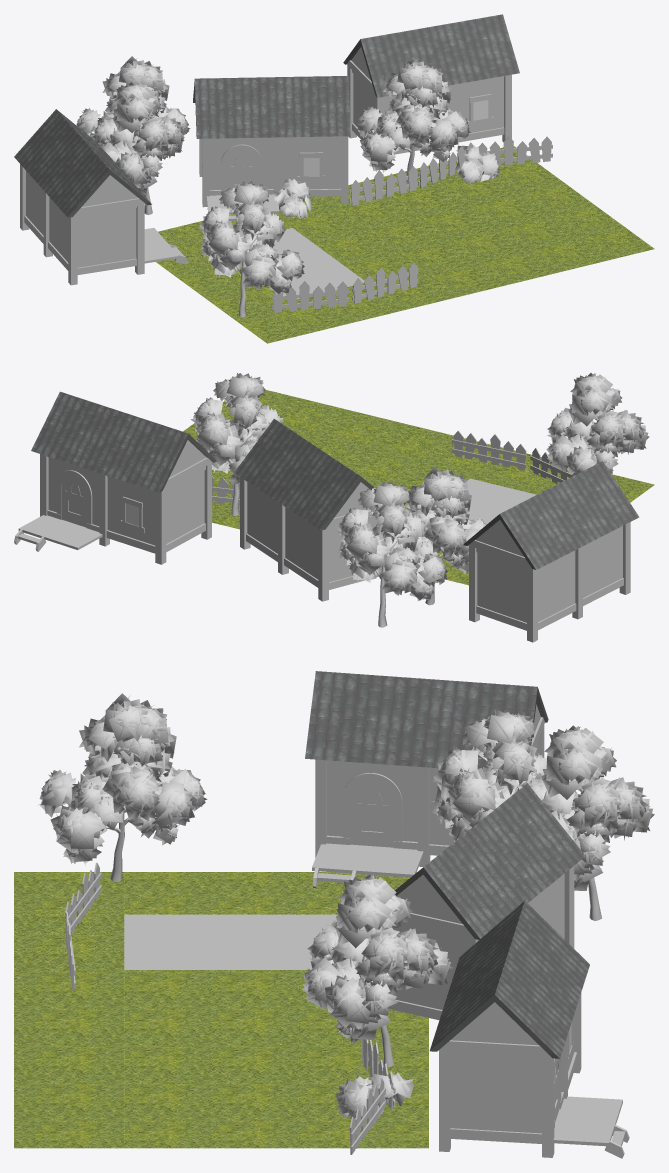
File: BattleBox.fbx
The picture shows the model from 3 angles, top to bottom: view 1: azimuth 30°, elevation 25°; view 2: azimuth 150°, elevation 25°; view 3: azimuth 270°, elevation 25°; orthographic projection. The views are drawn at different scales.
Visible parts, largest first — view 1: Plane, Cube.025, tree.002, Cube.027, tree.003, Cube.018, tree, Cube.016, Cube.015, Cube.017, Cube.013, tree.001 (+10 smaller); view 2: Plane, Cube.027, Cube.018, tree.001, Cube.026, Cube.025, Cube.015, tree.003, tree.002, Cube.024, Cube.016, tree (+6 smaller); view 3: Plane, tree.003, Cube.018, tree.002, Cube.027, Cube.025, Cube.026, tree.001, tree, Cube.016, Cube.024, Cube.015 (+7 smaller).
Boxes of the visible parts, x1=… form: Plane: x1=156, y1=146, x2=654, y2=343; Cube.025: x1=193, y1=76, x2=350, y2=138; tree.002: x1=356, y1=57, x2=470, y2=184; Cube.027: x1=343, y1=14, x2=519, y2=97; tree.003: x1=198, y1=181, x2=304, y2=317; Cube.018: x1=14, y1=109, x2=151, y2=217; tree: x1=91, y1=82, x2=185, y2=214; Cube.016: x1=20, y1=164, x2=187, y2=285; Cube.015: x1=26, y1=171, x2=136, y2=267; Cube.017: x1=199, y1=136, x2=348, y2=221; Cube.013: x1=210, y1=137, x2=340, y2=190; tree.001: x1=76, y1=56, x2=190, y2=159; Plane: x1=183, y1=390, x2=654, y2=585; Cube.027: x1=31, y1=391, x2=216, y2=492; Cube.018: x1=463, y1=461, x2=639, y2=569; tree.001: x1=335, y1=481, x2=447, y2=627; Cube.026: x1=14, y1=440, x2=212, y2=564; Cube.025: x1=234, y1=419, x2=373, y2=530; Cube.015: x1=477, y1=526, x2=622, y2=622; tree.003: x1=546, y1=373, x2=649, y2=475; tree.002: x1=190, y1=373, x2=283, y2=515; Cube.024: x1=48, y1=457, x2=204, y2=545; Cube.016: x1=468, y1=520, x2=630, y2=642; tree: x1=384, y1=466, x2=486, y2=605; Plane: x1=14, y1=872, x2=428, y2=1148; tree.003: x1=38, y1=693, x2=207, y2=881; Cube.018: x1=305, y1=671, x2=548, y2=769; tree.002: x1=301, y1=874, x2=453, y2=1067; Cube.027: x1=429, y1=901, x2=589, y2=1058; Cube.025: x1=394, y1=783, x2=585, y2=939; Cube.026: x1=439, y1=993, x2=629, y2=1158; tree.001: x1=525, y1=725, x2=654, y2=920; tree: x1=431, y1=708, x2=576, y2=841; Cube.016: x1=312, y1=704, x2=544, y2=887; Cube.024: x1=450, y1=1015, x2=574, y2=1133; Cube.015: x1=327, y1=742, x2=537, y2=845.
Size of the model in its own units: 14.7 by 5.17 by 19.26.
